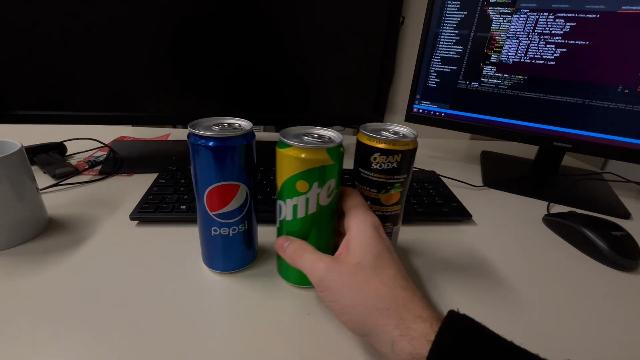OranSoda: (349, 121, 419, 258)
Pepsi: (185, 115, 261, 275)
Sprite: (274, 123, 346, 289)
